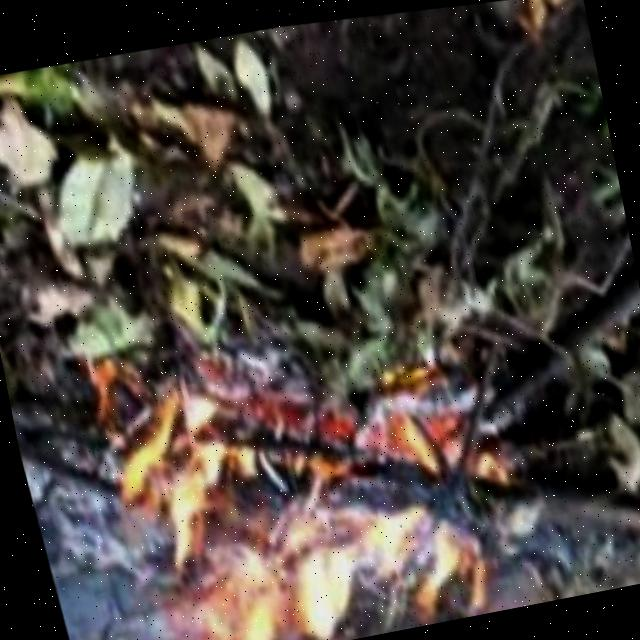fire: (90, 326, 504, 640)
